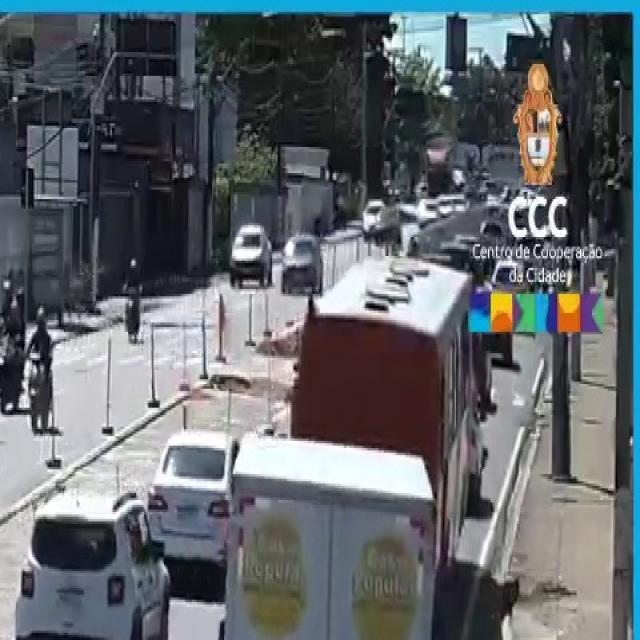biker: (0, 268, 27, 422), (27, 299, 56, 439)
car: (10, 488, 174, 640), (150, 432, 236, 581), (278, 231, 326, 299), (231, 216, 272, 290)
truck: (284, 245, 467, 614), (219, 426, 433, 640)
